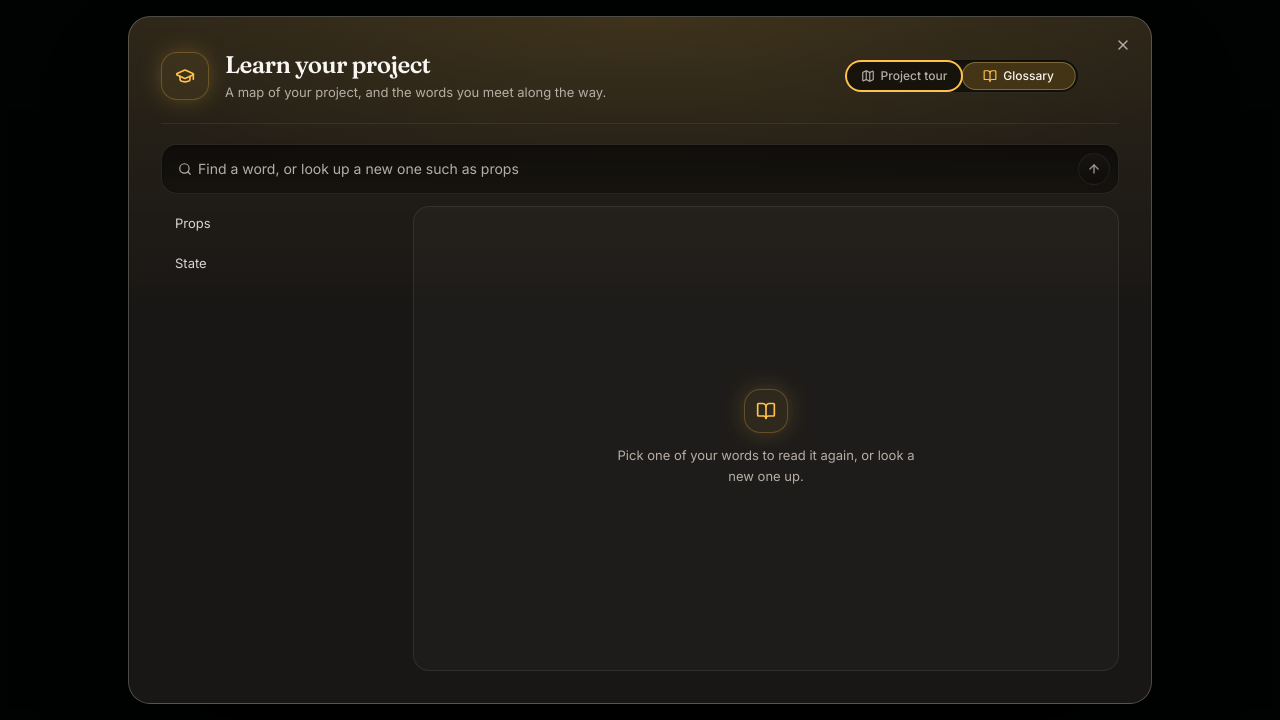
Test case: the glossary › lists the words and reads one back without asking for it again
Click the button "State" at (276, 264), box [161,246,392,282]
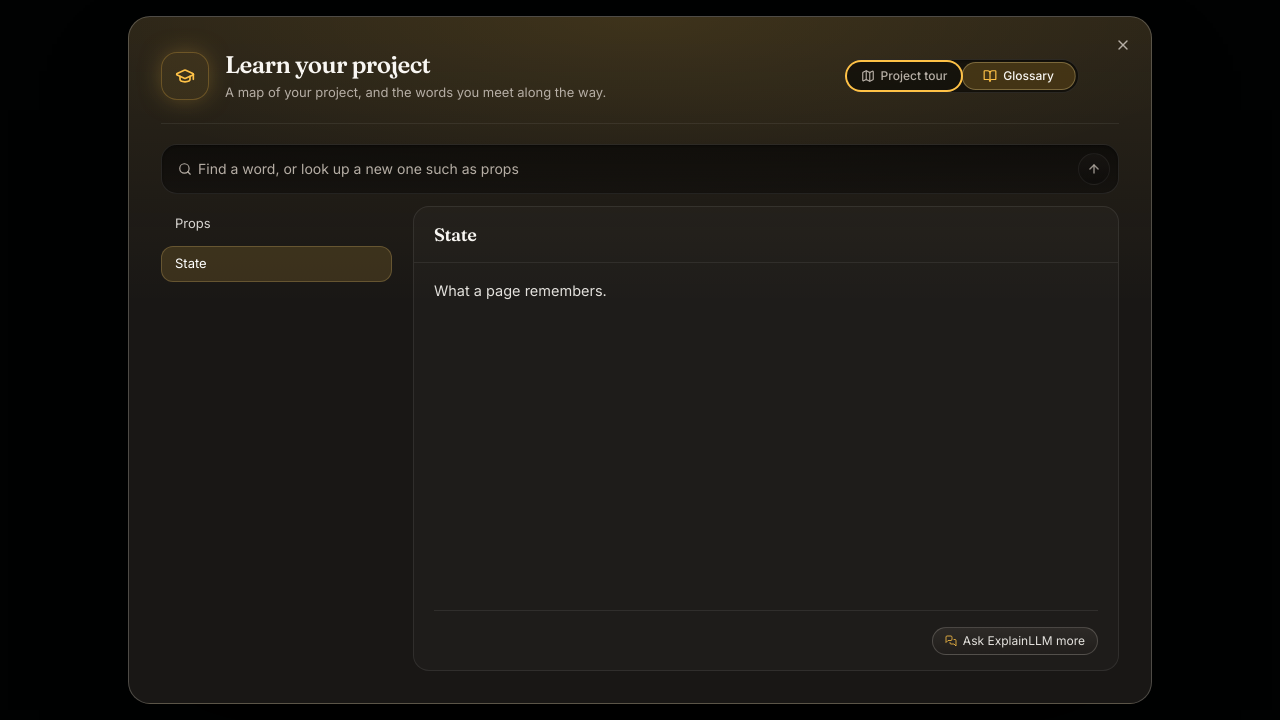
expect the text "What a page remembers." is shown: met, box [434,282,607,298]
